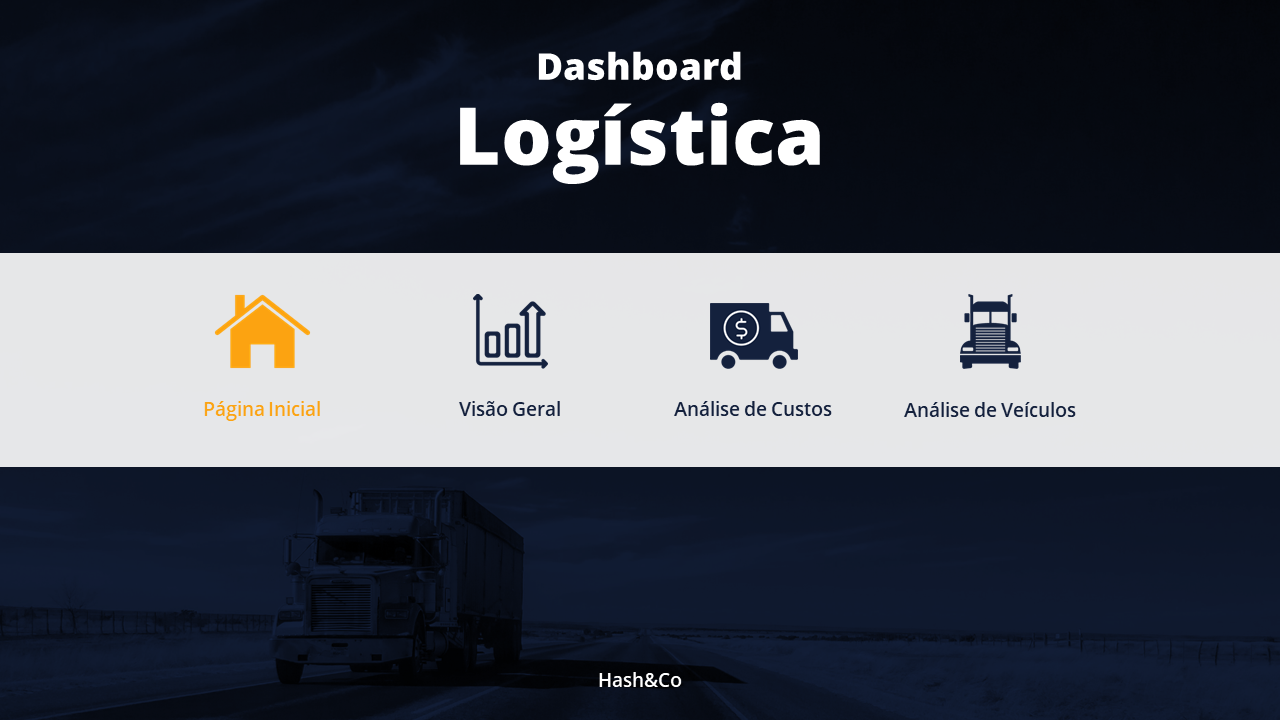

What the dashboard file says about the page in this screenshot:
{"tool":"powerbi","page":{"name":"Capa","canvas":[1280,720],"ordinal":0},"visuals":[{"type":"actionButton","box":[441.8,274.1,134.6,110.1],"z":0},{"type":"actionButton","box":[682.6,274.2,134.1,109.9],"z":1000},{"type":"actionButton","box":[923,274.2,134.1,109.9],"z":2000},{"type":"actionButton","box":[196.9,273,134.1,109.9],"z":3000}]}

Visuals, with their boxes in screenshot pixels (x1, y1, x2, y2), scaled from the page's 1280x720 canvas onto the 1280x720 screenshot:
actionButton: Rect(442, 274, 576, 384)
actionButton: Rect(683, 274, 817, 384)
actionButton: Rect(923, 274, 1057, 384)
actionButton: Rect(197, 273, 331, 383)
